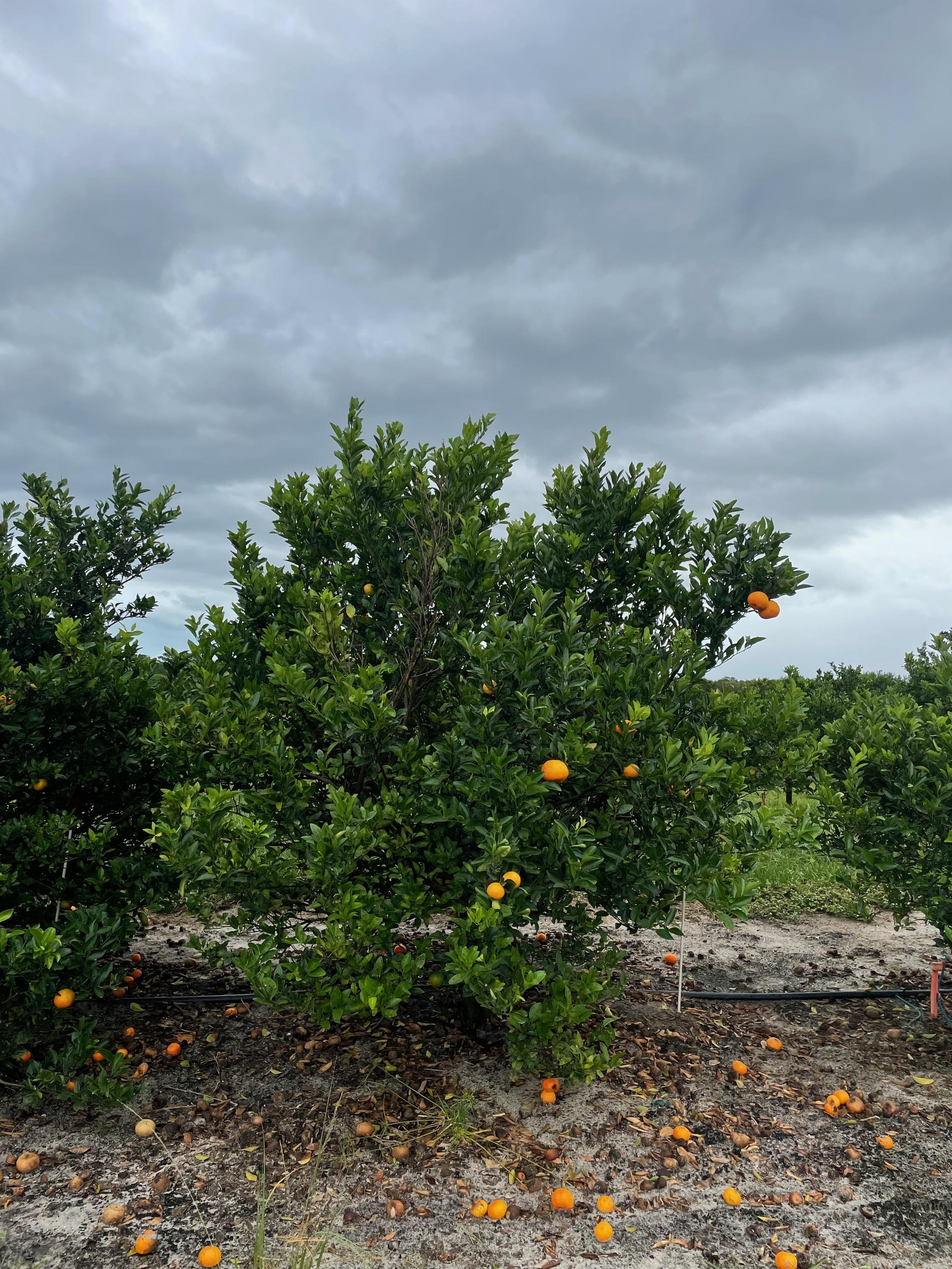fruit_on_ground: (539, 757, 571, 785), (665, 778, 692, 802), (499, 867, 525, 891), (612, 717, 639, 740), (483, 878, 508, 902), (745, 589, 770, 613), (52, 986, 77, 1010), (756, 598, 781, 621), (29, 773, 51, 794), (0, 689, 18, 714), (621, 760, 642, 781), (427, 970, 447, 990), (480, 677, 500, 697), (64, 1077, 81, 1094), (91, 1048, 108, 1064), (16, 1048, 32, 1064), (361, 581, 377, 597), (58, 897, 74, 912)
fruit_on_tree: (131, 1228, 159, 1255), (101, 1201, 128, 1225), (197, 1243, 223, 1267), (550, 1186, 575, 1210), (14, 1150, 40, 1173), (385, 1197, 408, 1219), (486, 1197, 508, 1220), (133, 1117, 156, 1139), (774, 1249, 799, 1269), (593, 1220, 614, 1242), (722, 1185, 743, 1206), (540, 1075, 562, 1095), (469, 1197, 489, 1218), (595, 1194, 616, 1214), (845, 1095, 866, 1114), (390, 1143, 411, 1162), (353, 1120, 375, 1138), (503, 1202, 521, 1221), (880, 1099, 899, 1117), (672, 1124, 691, 1142), (730, 1058, 749, 1076), (539, 1088, 559, 1105), (763, 1036, 784, 1052), (875, 1133, 894, 1150), (832, 1088, 850, 1105), (787, 1190, 804, 1206), (885, 1026, 903, 1041), (164, 1041, 182, 1056), (391, 941, 408, 956), (662, 951, 679, 966), (109, 984, 127, 998), (134, 1061, 150, 1076), (824, 1094, 841, 1108), (222, 1004, 239, 1017), (122, 1024, 137, 1038), (143, 1045, 158, 1058), (114, 1045, 129, 1058), (130, 967, 144, 980), (535, 930, 550, 942), (130, 951, 143, 964), (123, 972, 135, 985)
